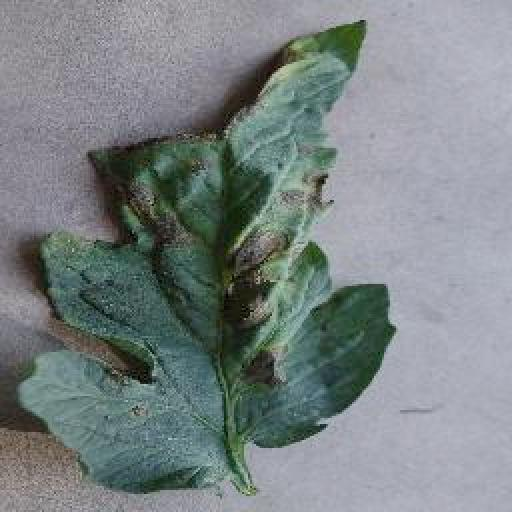disease_tomato: (16, 22, 398, 498)
